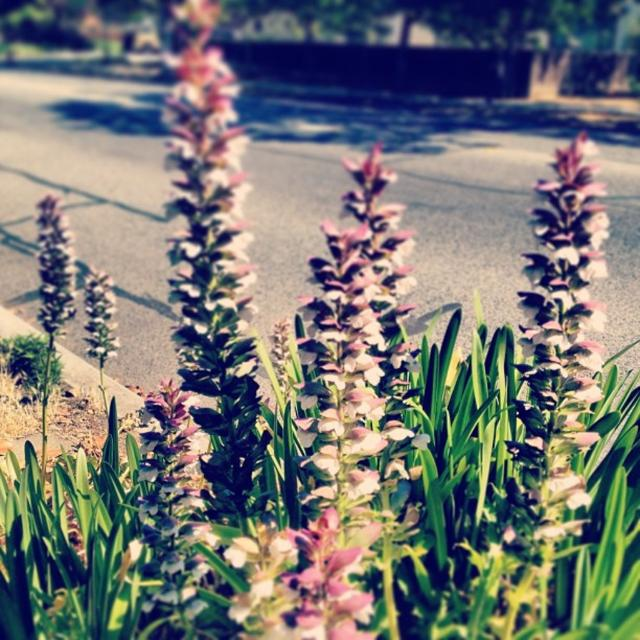Flower: (127, 0, 613, 638)
